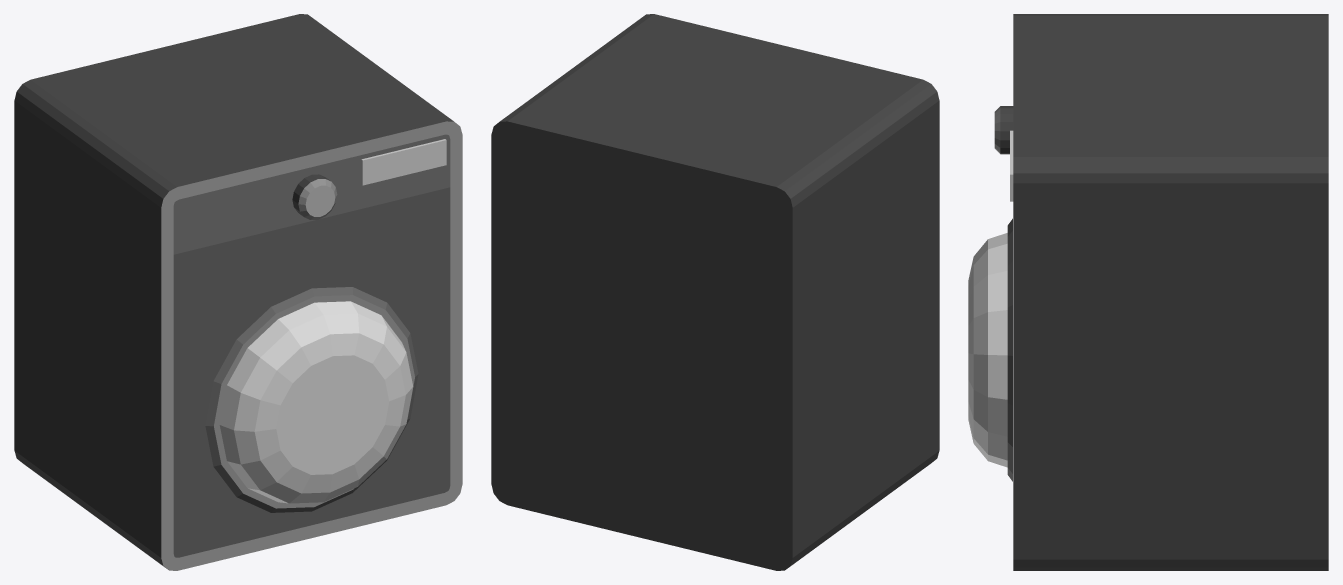
File: Prop_Washer_02.fbx
3 views of the same model, side by side, from view 1: azimuth 30°, elevation 25°; view 2: azimuth 150°, elevation 25°; view 3: azimuth 270°, elevation 25° (orthographic). The views are drawn at different scales.
Parts seen in each view (by area): view 1: Prop_Washer_02; view 2: Prop_Washer_02; view 3: Prop_Washer_02.
Boxes of the visible parts, x1=… form: Prop_Washer_02: x1=14, y1=14, x2=462, y2=570; Prop_Washer_02: x1=491, y1=14, x2=939, y2=570; Prop_Washer_02: x1=968, y1=14, x2=1328, y2=570.
Size of the model in its own units: 82.95 by 101 by 79.95.
